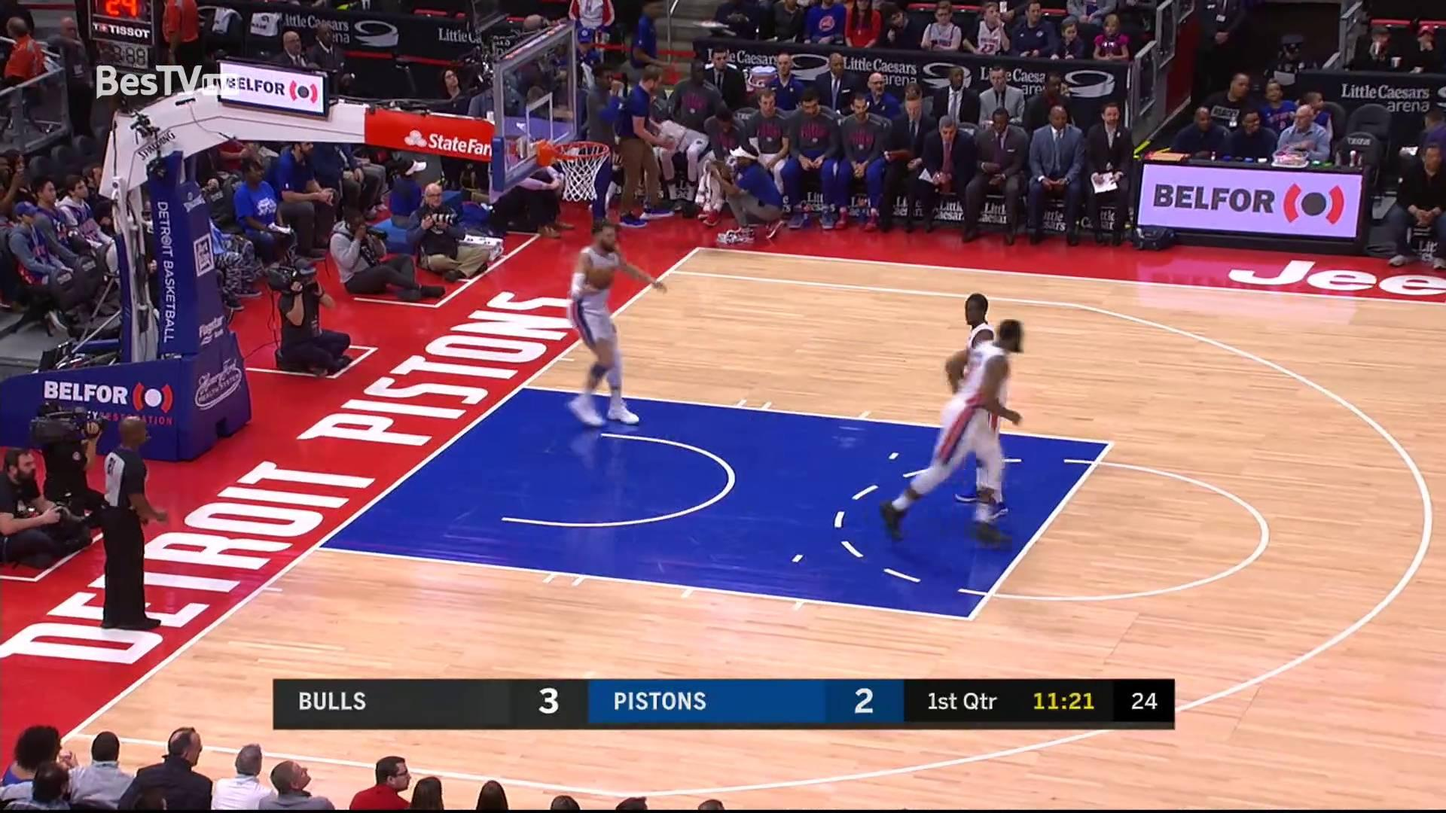basketball: (584, 263, 612, 291)
